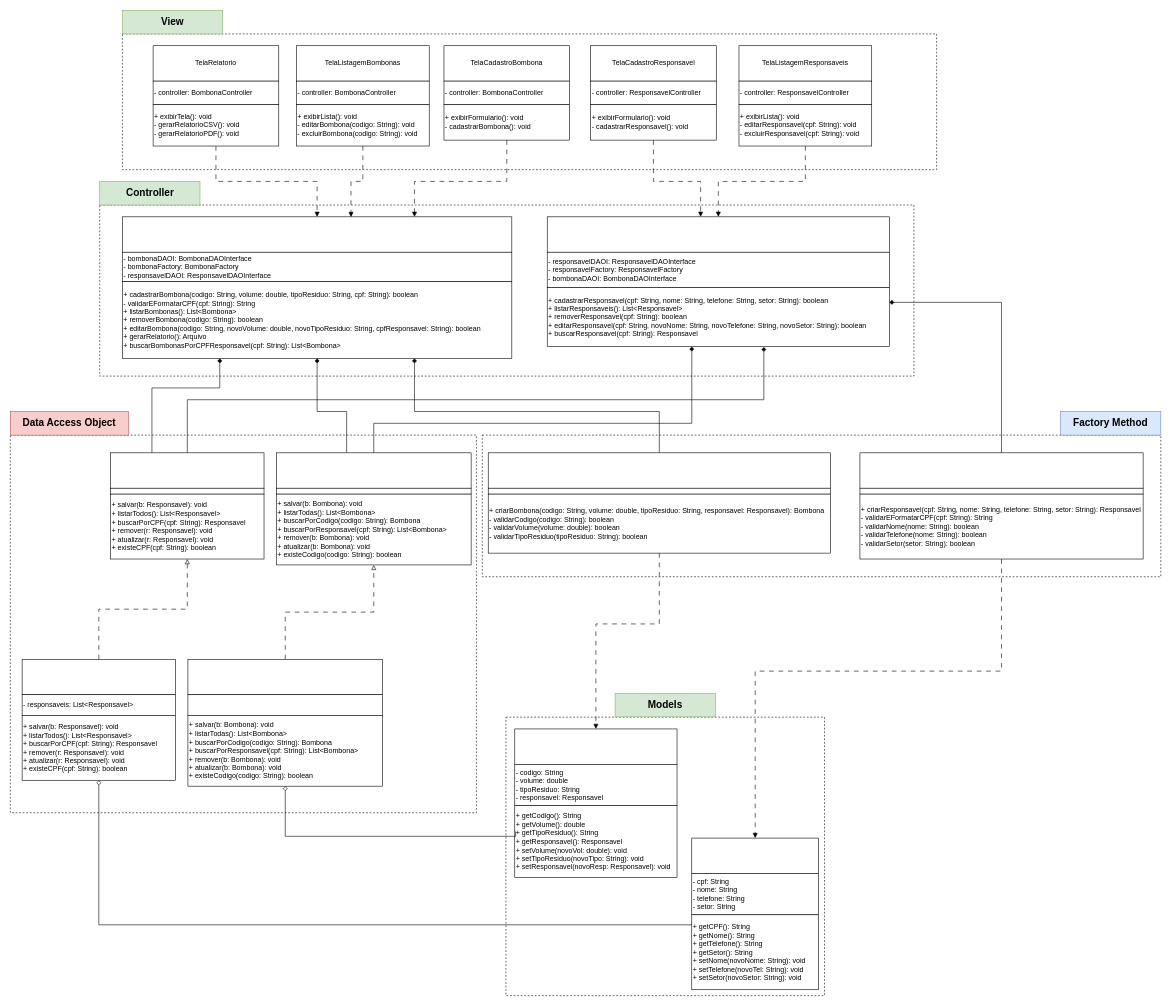
Image size: 1171x1006. Some labels were removed from this diagram. The centre of each missing label's shape, as x and y in pixels:
"- bombonas: List<Bombona>" belongs at point (285, 704).
"Bombona" belongs at point (595, 746).
"BombonaController" belongs at point (317, 234).
"BombonaDAO" belongs at point (285, 677).
"BombonaDAOInterface" belongs at point (373, 470).
"BombonaFactory" belongs at point (659, 470).
"Responsavel" belongs at point (755, 855).
"ResponsavelController" belongs at point (718, 234).
"ResponsavelDAO" belongs at point (99, 677).
"ResponsavelDAOInterface" belongs at point (187, 470).
"ResponsavelFactory" belongs at point (1001, 470).
